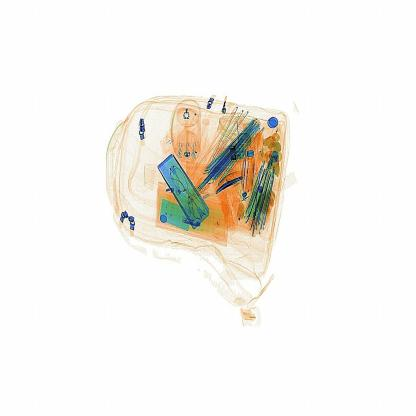pliers: (215, 168, 248, 206)
